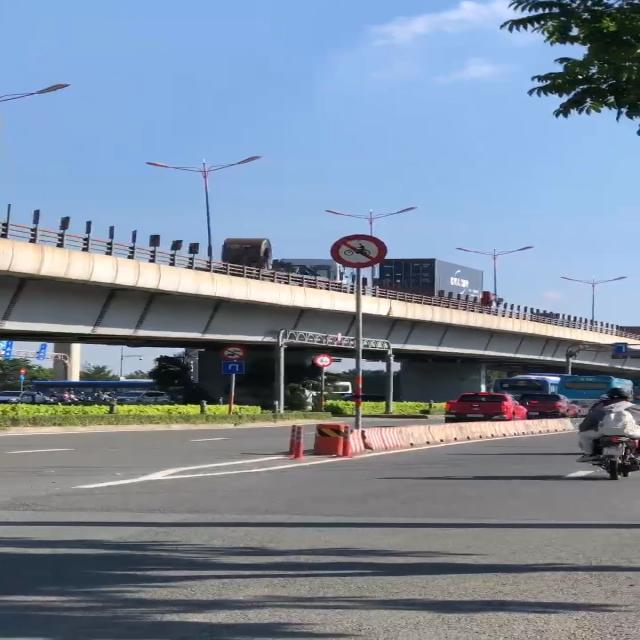Bien bao cam xe may: (328, 232, 391, 272)
Bien bao cam xe oto khach va xe oto tai: (220, 343, 248, 360)
